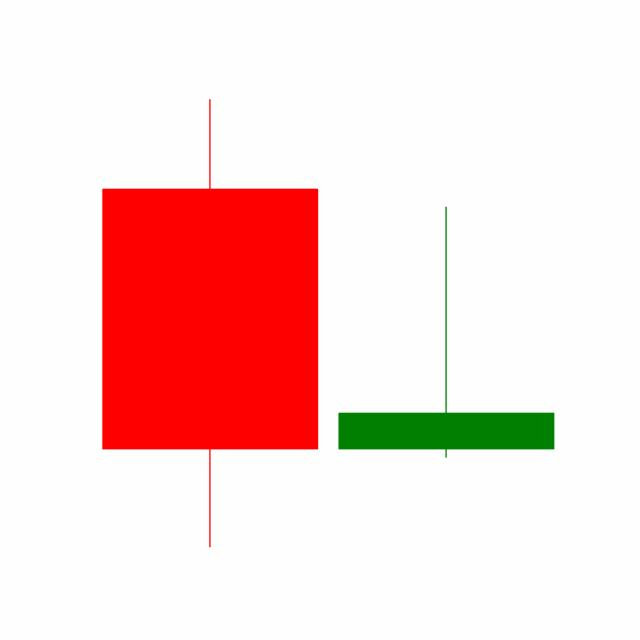Gravestone Doji: (327, 203, 565, 461)
